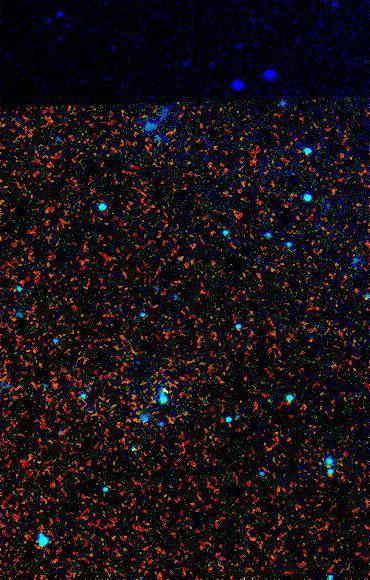star: (147, 374, 177, 404)
